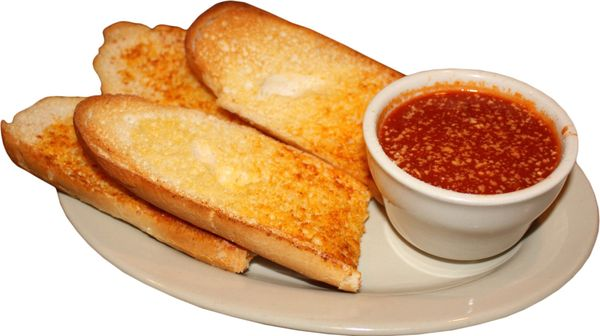soup: (38, 94, 376, 295), (184, 2, 407, 187)
sushi: (362, 68, 580, 264)
